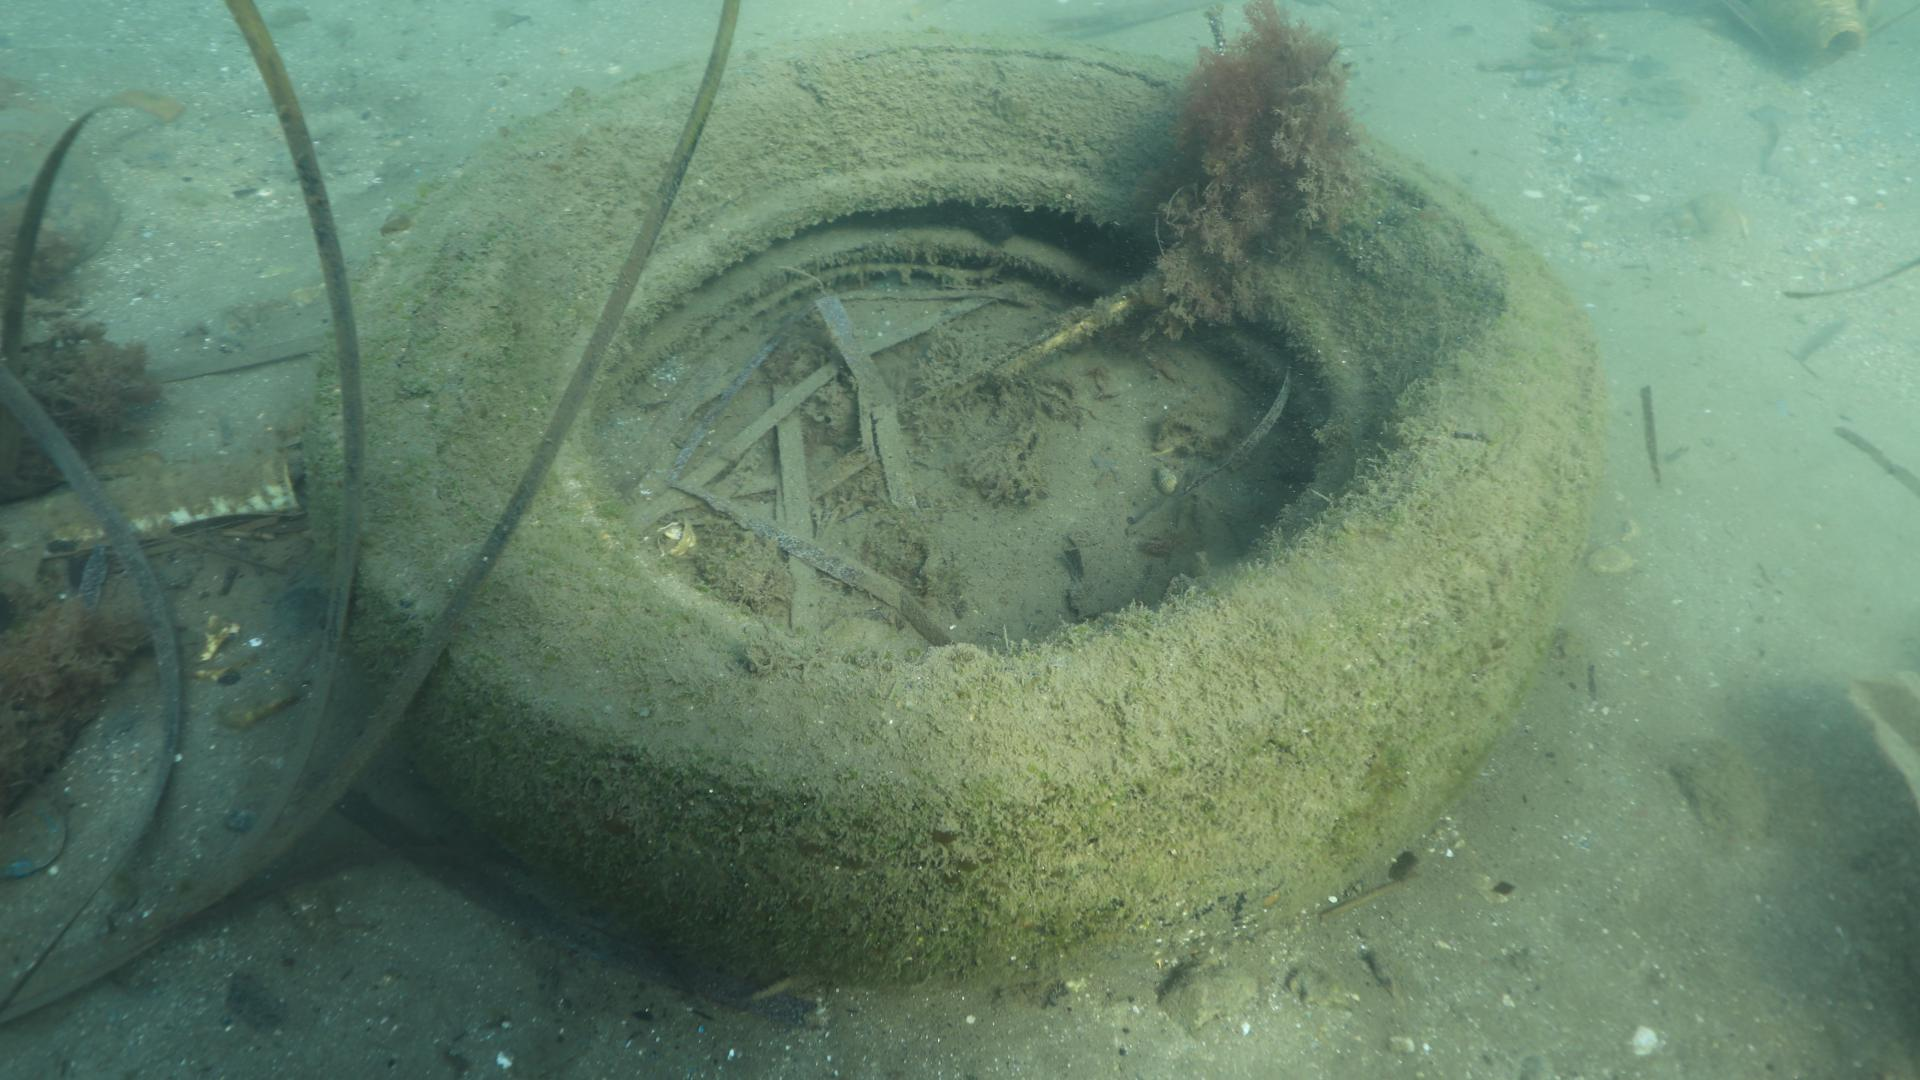tire: (286, 22, 1597, 996)
